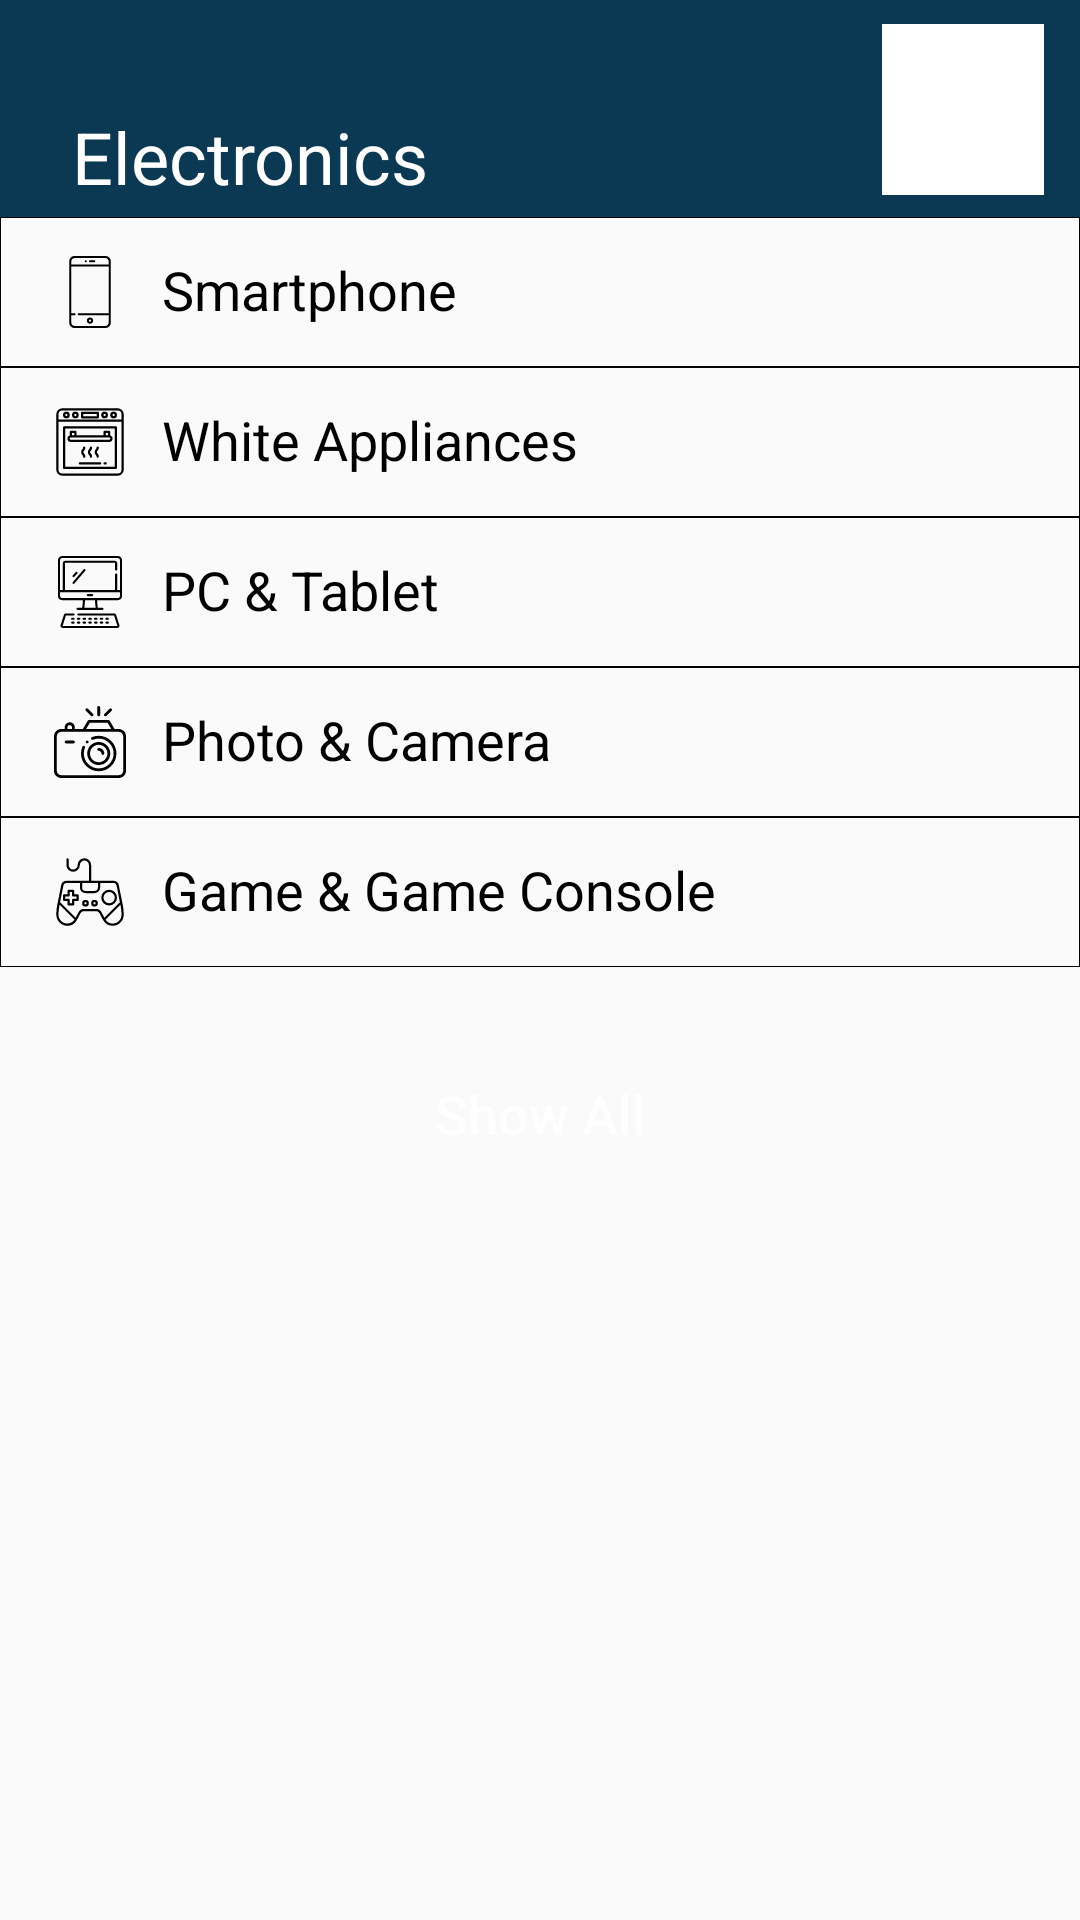

Screen size 1080 x 1920. Icon name, then its box in pixels as bbox=(x1, y1, x2, y2):
computer: bbox=(58, 556, 122, 628)
mobile phone: bbox=(69, 256, 111, 328)
oven: bbox=(56, 408, 124, 476)
